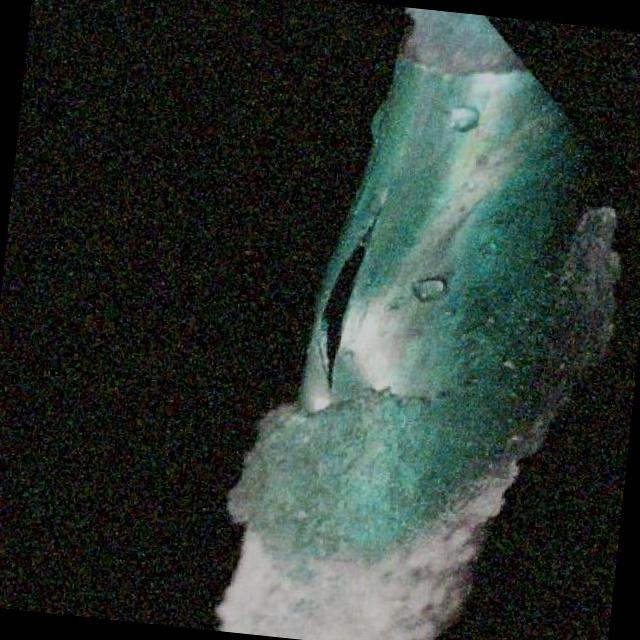Hole: (262, 187, 419, 420)
